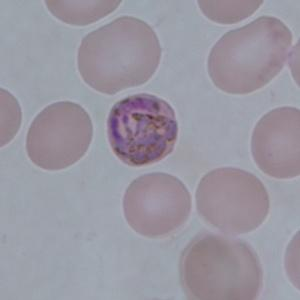Infected: (107, 95, 178, 164)
Uninfected: (77, 15, 161, 95), (207, 17, 292, 95), (183, 231, 263, 300), (194, 168, 270, 232), (25, 100, 92, 172), (123, 171, 191, 237), (251, 106, 300, 180)
